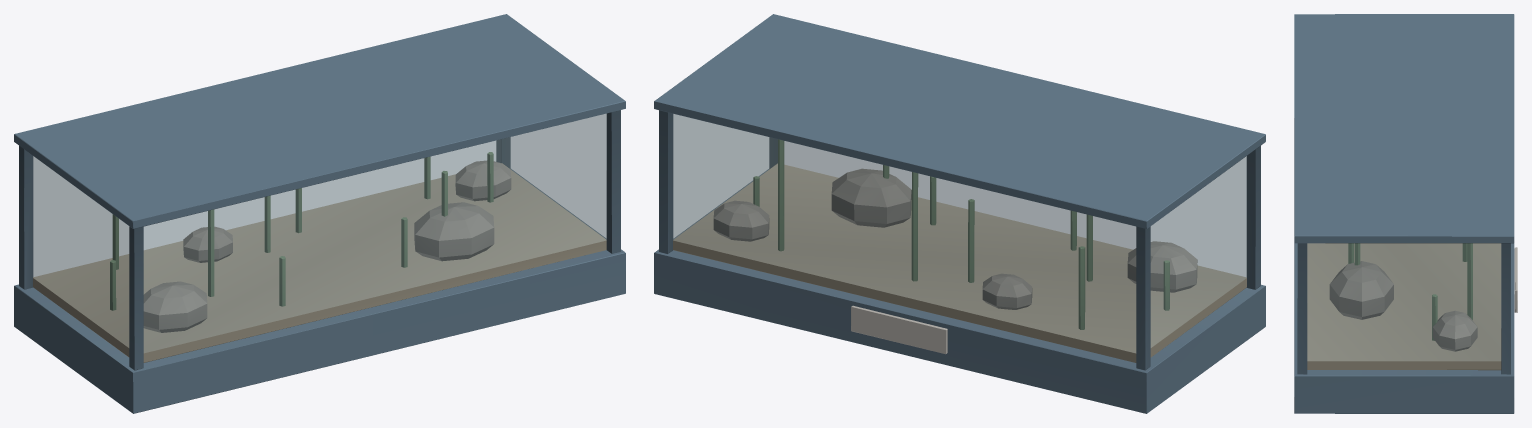
File: museum_tank_big_low.glb
3 views of the same model, side by side, from view 1: azimuth 30°, elevation 25°; view 2: azimuth 150°, elevation 25°; view 3: azimuth 270°, elevation 25° (orthographic). The views are drawn at different scales.
Size of the model in its own units: 6.2 by 2.32 by 2.64.
